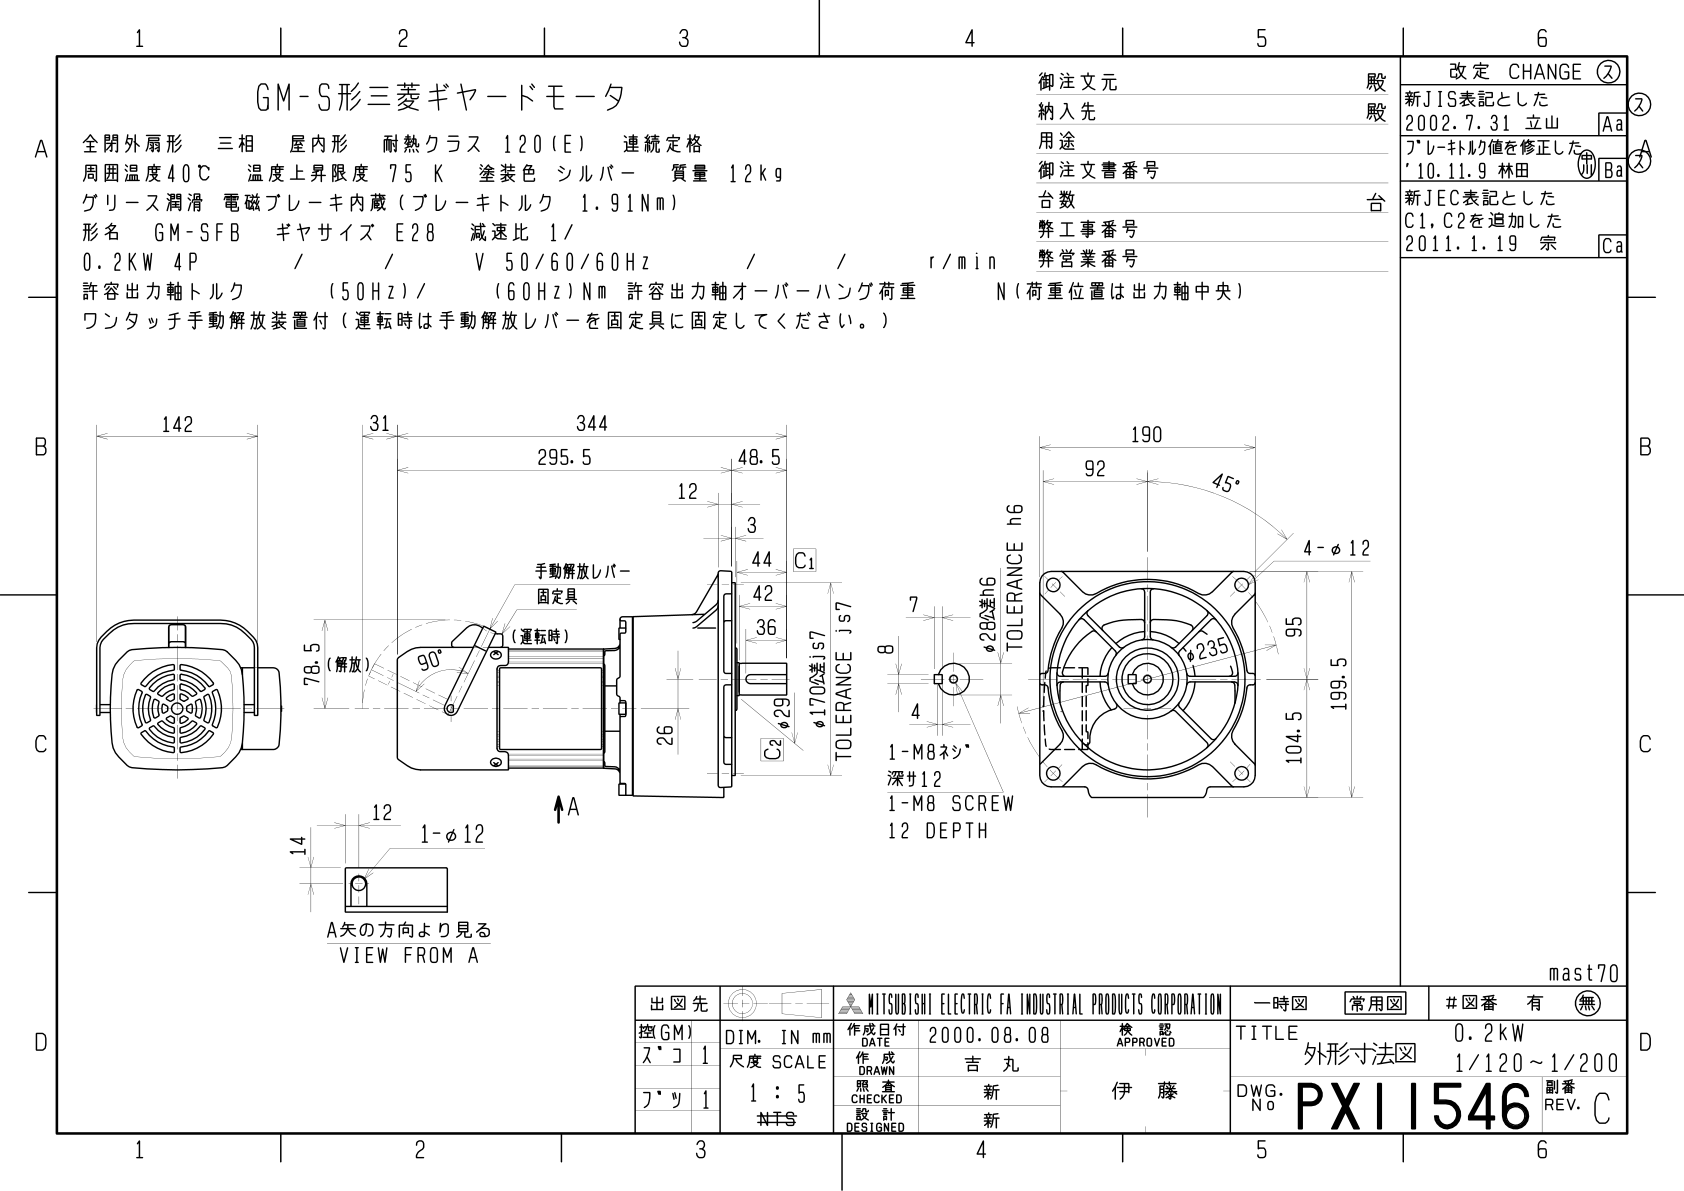GM_S_手動ブレーキ＿三相_フランジ: (21, 28, 1684, 1191)
